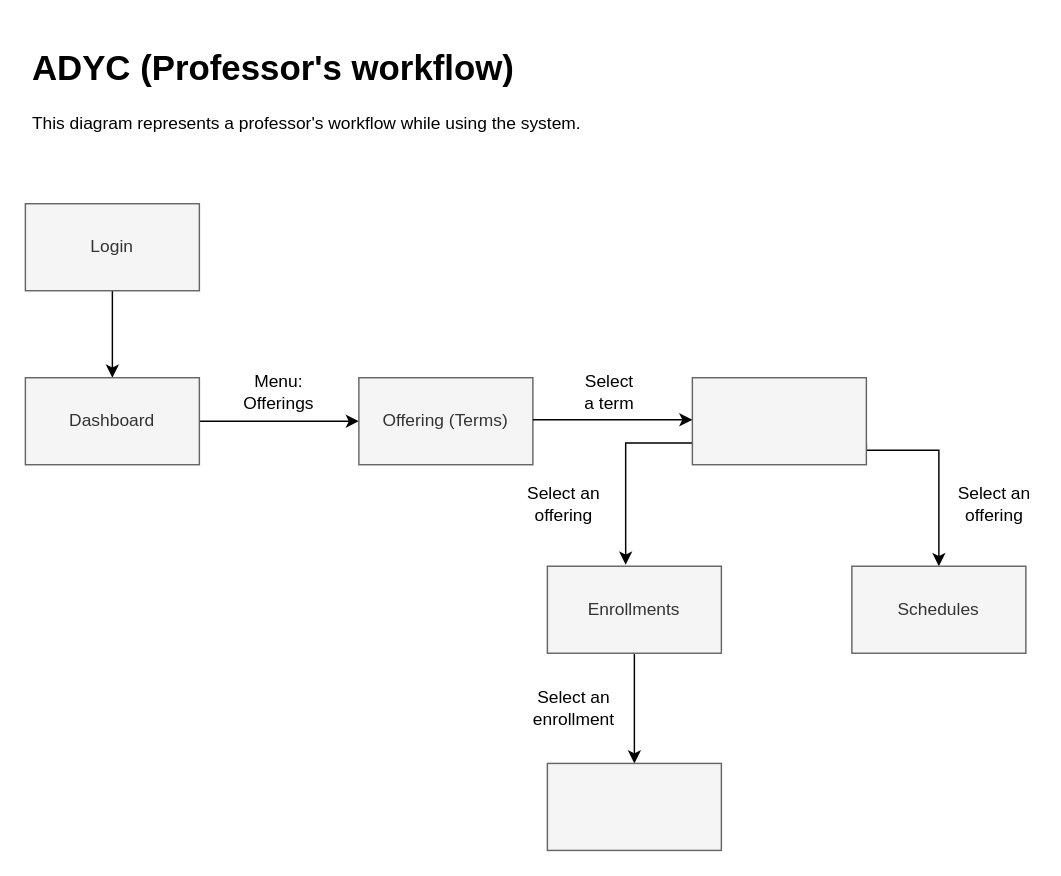
Some shapes in this 1061 by 876 pixel diagram are drawn without their labels. Here are the shapes that lost their labels. From the top down, the centre of each, then its label:
the point at 778,420: Offering (List)
the point at 633,806: Evaluations
